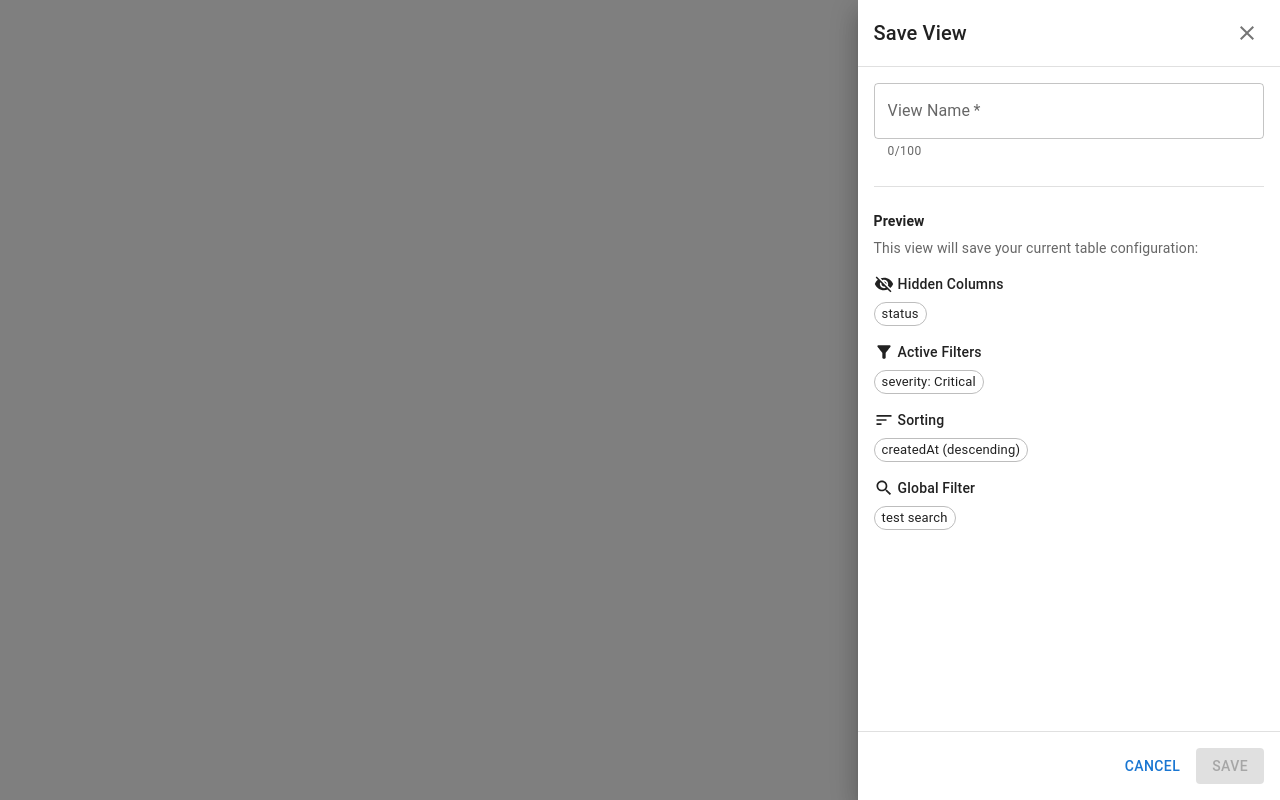
SaveViewPanel › View Name Validation › should show real-time validation errors
// Clear field to trigger empty validation
Step 1. Clear the field labelled "View Name *" → (1069, 111), box [874,83,1264,139]
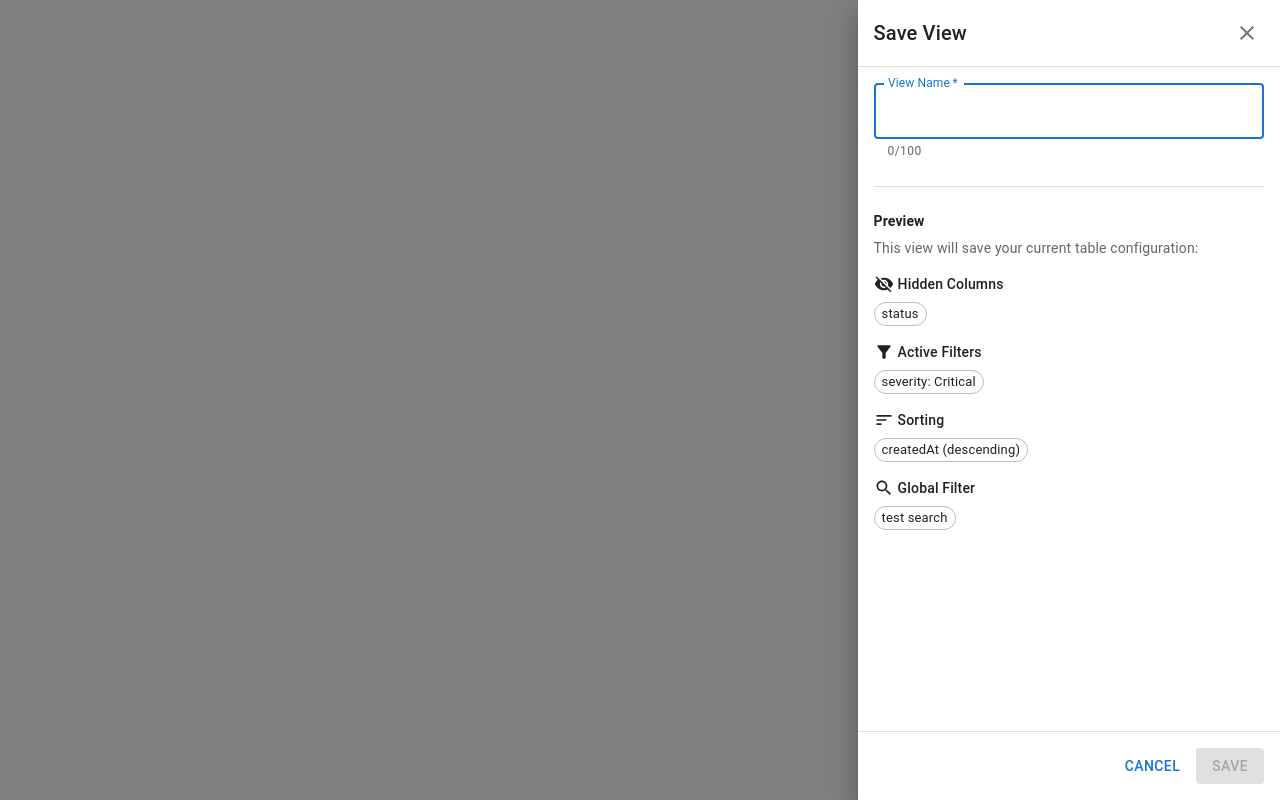
Step 2. Press Tab
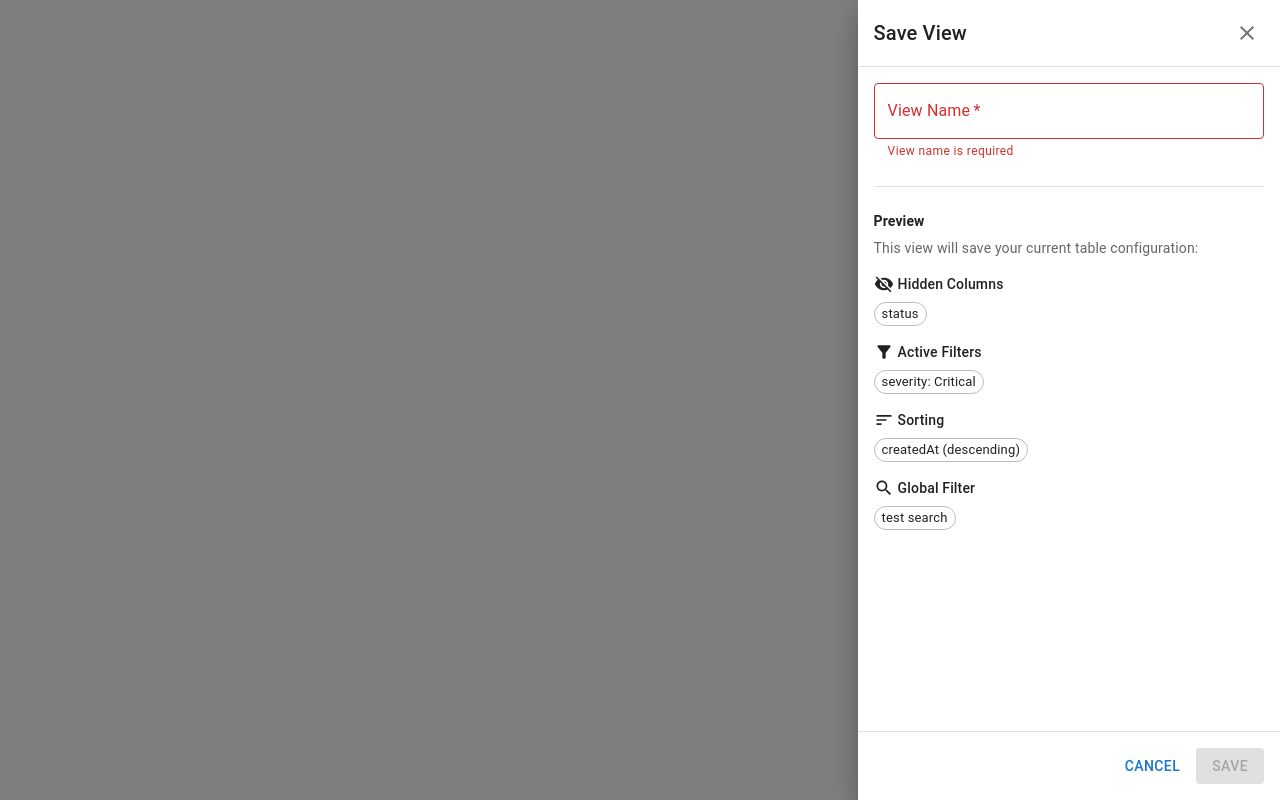
Check: the text "View name is required" is shown, box [888,144,1014,158]
// Type valid name to clear error
Step 3. Type "Valid Name" into the field labelled "View Name *" → (1069, 111), box [874,83,1264,139]
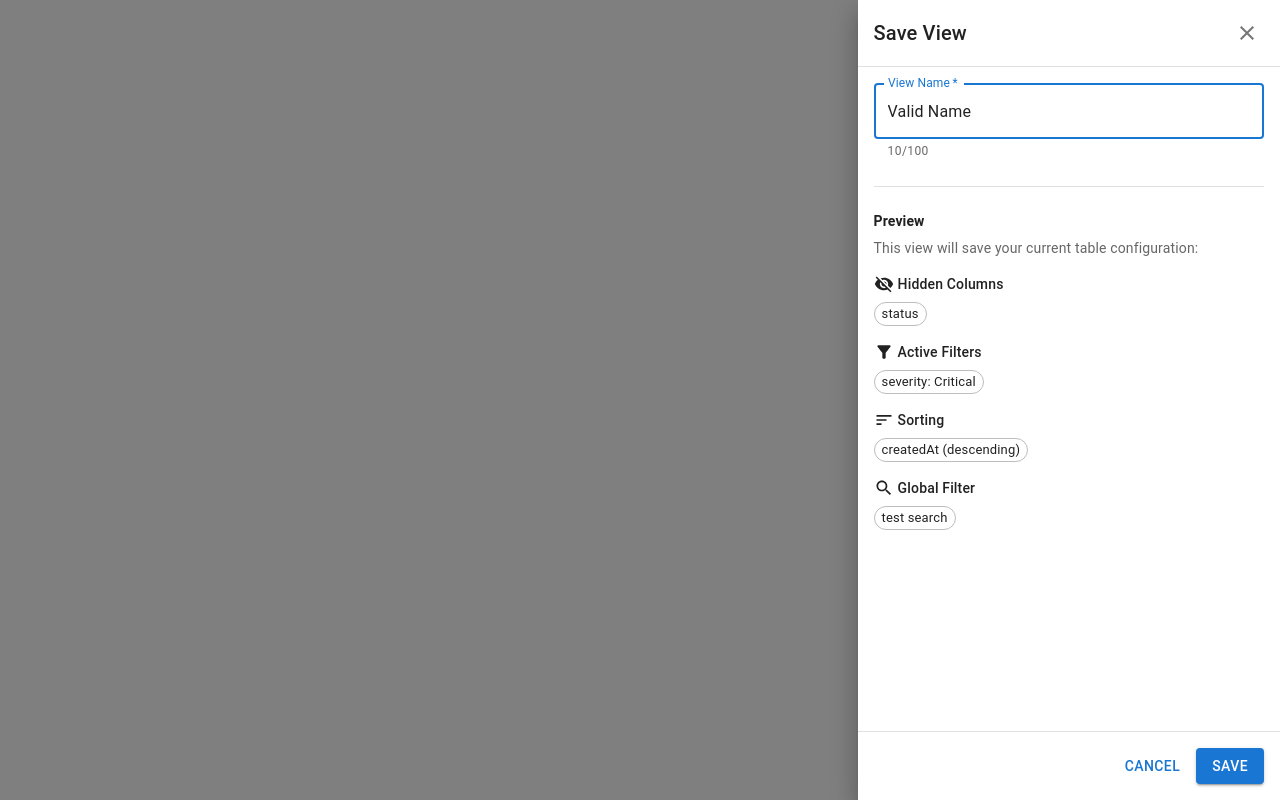
Check: the text "View name is required" is gone
